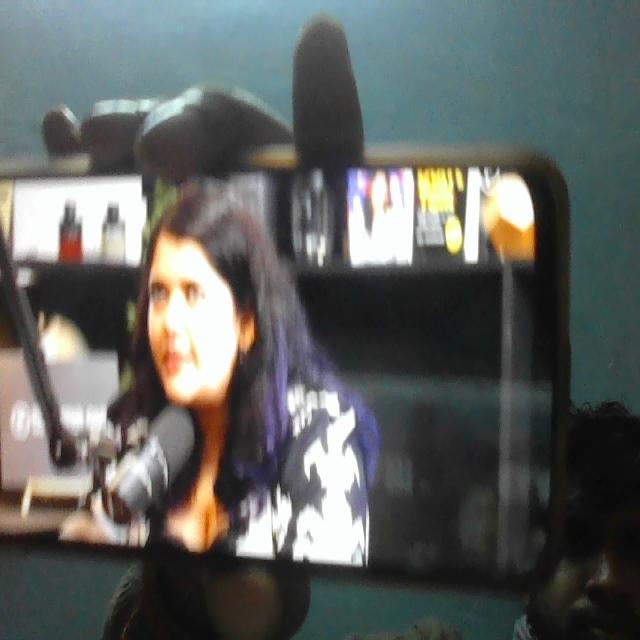fake: (135, 161, 267, 411)
